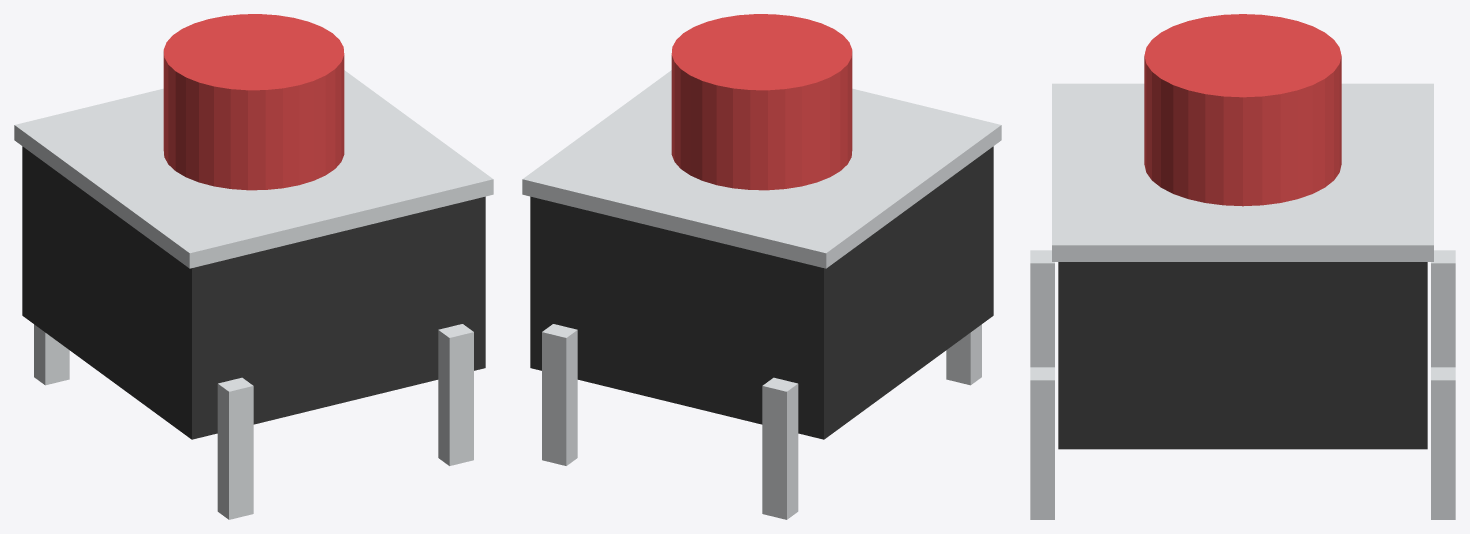
The model's file is button_tactile_6mm.glb.
3 views of the same model, side by side, from view 1: azimuth 30°, elevation 25°; view 2: azimuth 150°, elevation 25°; view 3: azimuth 270°, elevation 25° (orthographic). The views are drawn at different scales.
Visible parts, largest first — view 1: Btn_Base, Btn_Metal_Shield, Btn_Plunger, Cube, Cube.002, Cube.001; view 2: Btn_Base, Btn_Metal_Shield, Btn_Plunger, Cube.001, Cube.003, Cube; view 3: Btn_Base, Btn_Metal_Shield, Btn_Plunger, Cube.002, Cube.003, Cube, Cube.001.
Part boxes in pixels (<box>): Btn_Base: <box>22,146,485,439</box>; Btn_Metal_Shield: <box>14,70,493,268</box>; Btn_Plunger: <box>163,14,344,190</box>; Cube: <box>217,377,253,519</box>; Cube.002: <box>438,324,473,465</box>; Cube.001: <box>34,324,69,385</box>; Btn_Base: <box>530,146,993,439</box>; Btn_Metal_Shield: <box>522,70,1001,268</box>; Btn_Plunger: <box>671,14,852,190</box>; Cube.001: <box>762,377,798,519</box>; Cube.003: <box>542,324,577,465</box>; Cube: <box>946,324,981,385</box>; Btn_Base: <box>1058,262,1427,449</box>; Btn_Metal_Shield: <box>1052,83,1433,261</box>; Btn_Plunger: <box>1144,14,1341,206</box>; Cube.002: <box>1030,367,1054,519</box>; Cube.003: <box>1431,367,1455,519</box>; Cube: <box>1030,250,1054,367</box>; Cube.001: <box>1431,250,1455,367</box>.
Bounding box in the file's own units: 0.0062 × 0.00715 × 0.0069.
